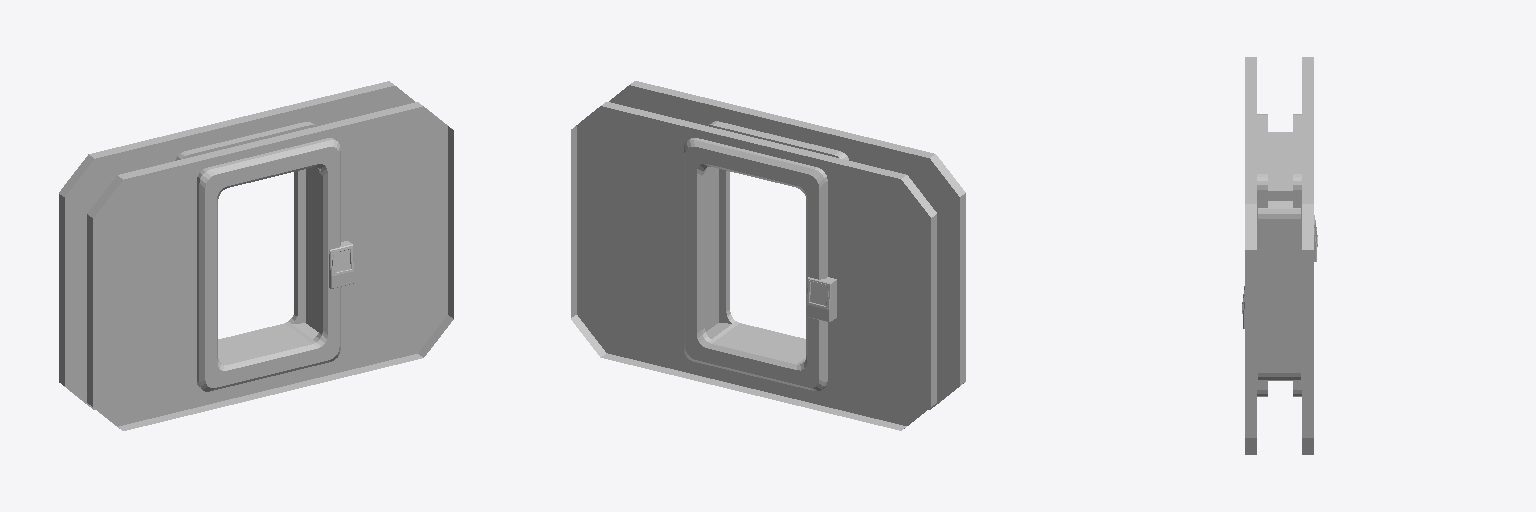
Rendered from Corridor_Door.obj.
3 renders of one model, left to right at view 1: azimuth 30°, elevation 25°; view 2: azimuth 150°, elevation 25°; view 3: azimuth 270°, elevation 25°, orthographic.
Visible parts, largest first — view 1: Cube.002_Cube.038; view 2: Cube.002_Cube.038; view 3: Cube.002_Cube.038.
Boxes of the visible parts, box(x1,y1,x2,y2) form: Cube.002_Cube.038: box(59, 81, 453, 430); Cube.002_Cube.038: box(571, 81, 965, 430); Cube.002_Cube.038: box(1242, 57, 1317, 454).
Bounding box in the file's own units: 6 × 4 × 1.09.